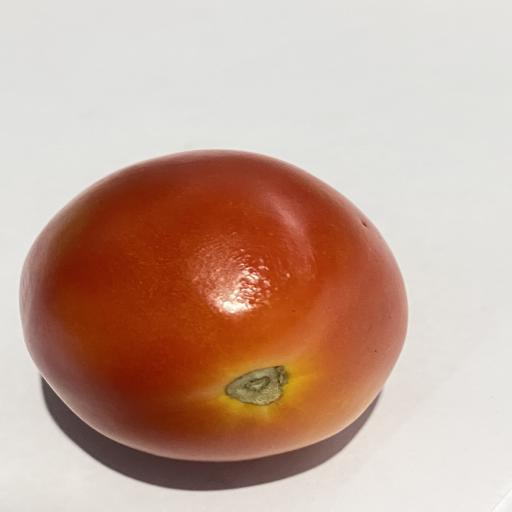ripe: (20, 151, 407, 460)
